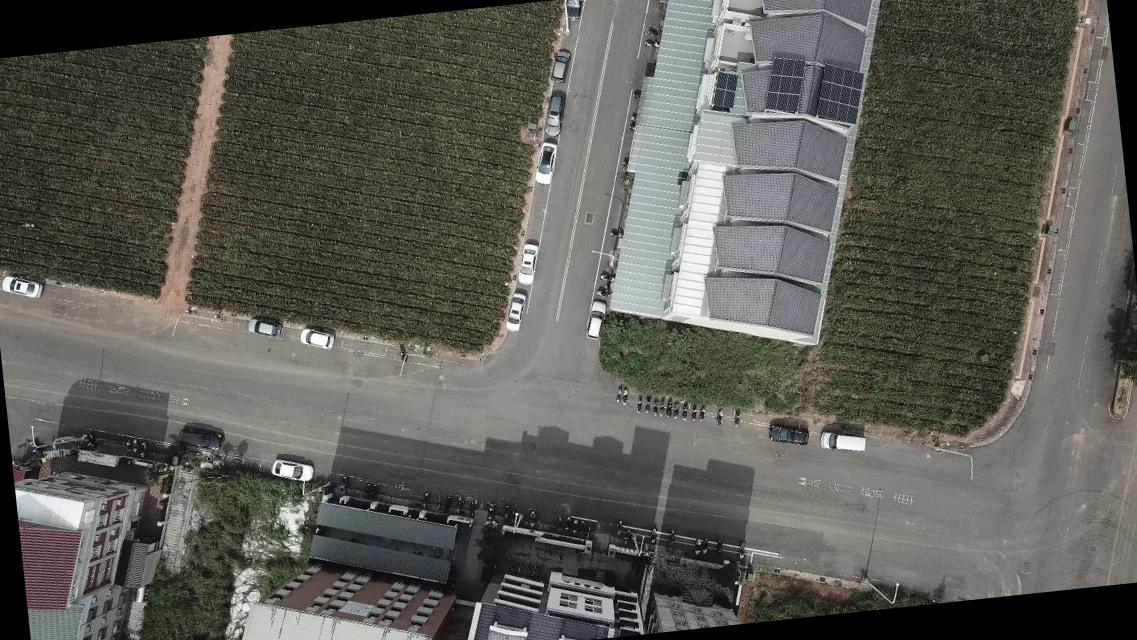vehicle: (530, 140, 562, 187), (819, 426, 867, 456), (0, 272, 45, 303), (269, 454, 313, 484), (514, 241, 542, 285), (502, 290, 530, 334), (540, 92, 568, 136), (581, 297, 609, 340), (297, 322, 335, 353), (767, 420, 808, 448), (548, 46, 574, 84), (246, 314, 282, 341), (563, 0, 582, 22)
